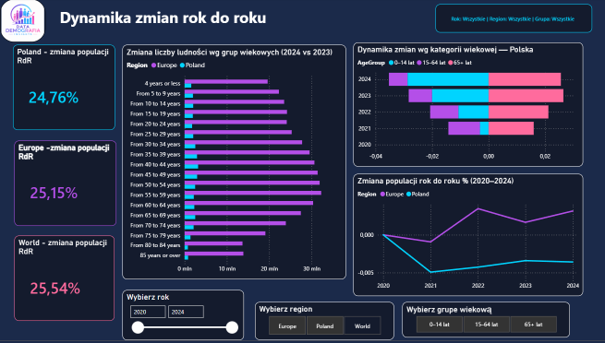

The dashboard page shown, as its layout file describes it:
{"tool":"powerbi","page":{"name":"Dynamika zmian rok do roku","canvas":[1280,720],"ordinal":2},"visuals":[{"type":"lineChart","title":"Zmiana populacji rok do roku % (2020–2024)","fields":{"Category":["Kalendarz.Rok"],"Y":["_Miary.YoY Change %"],"Series":["All_Regions.Region"]},"box":[744,369.1,484.3,258.5],"z":0},{"type":"clusteredBarChart","title":"Zmiana liczby ludności wg grup wiekowych (2024 vs 2023)","fields":{"Category":["All_Regions.Age"],"Y":["_Miary.YoY Change"],"Series":["All_Regions.Region"]},"box":[257.8,96.2,471.2,495.4],"z":1000},{"type":"barChart","title":"Dynamika zmian wg kategorii wiekowej — Polska","fields":{"Category":["Kalendarz.Rok"],"Y":["_Miary.YoY Change %"],"Series":["All_Regions.AgeGroup"]},"box":[744,91.6,484.3,262.4],"z":2000},{"type":"cardVisual","title":"Poland - zmiana populacji RdR","fields":{"Data":["_Miary.YoY Change %"]},"box":[27.5,96.2,215.3,180],"z":3000},{"type":"cardVisual","title":"Europe -zmiana populacji RdR","fields":{"Data":["_Miary.YoY Change %"]},"box":[30.1,298.4,215.3,180],"z":4000},{"type":"cardVisual","title":"World - zmiana populacji RdR","fields":{"Data":["_Miary.YoY Change %"]},"box":[30.1,498.7,210.7,180],"z":5000},{"type":"textbox","box":[120.6,10.7,454.2,73.9],"z":6000},{"type":"slicer","title":"Wybierz rok","fields":{"Values":["Kalendarz.Rok"]},"box":[257.8,613.8,255.9,106],"z":7000},{"type":"slicer","title":"Wybierz region","fields":{"Values":["All_Regions.Region"]},"box":[537.3,639.3,293.2,80.5],"z":8000},{"type":"slicer","title":"Wybierz grupe wiekową","fields":{"Values":["All_Regions.AgeGroup"]},"box":[847.4,639.3,352.7,75.3],"z":9000},{"type":"cardVisual","fields":{"Data":["Miary.Opis filtrów_2"]},"box":[916.8,10.5,329.8,59.6],"z":10000},{"type":"image","box":[0,0,96.3,91.4],"z":11000}]}

Visuals, with their boxes in screenshot pixels (x1, y1, x2, y2), scaled from the page's 1280x720 canvas onto the 605x343 screenshot:
"Zmiana populacji rok do roku % (2020–2024)" lineChart: region(352, 176, 581, 299)
"Zmiana liczby ludności wg grup wiekowych (2024 vs 2023)" clusteredBarChart: region(122, 46, 345, 282)
"Dynamika zmian wg kategorii wiekowej — Polska" barChart: region(352, 44, 581, 169)
"Poland - zmiana populacji RdR" cardVisual: region(13, 46, 115, 132)
"Europe -zmiana populacji RdR" cardVisual: region(14, 142, 116, 228)
"World - zmiana populacji RdR" cardVisual: region(14, 238, 114, 323)
textbox: region(57, 5, 272, 40)
"Wybierz rok" slicer: region(122, 292, 243, 342)
"Wybierz region" slicer: region(254, 305, 393, 342)
"Wybierz grupe wiekową" slicer: region(401, 305, 567, 340)
cardVisual - Miary.Opis filtrów_2: region(433, 5, 589, 33)
image: region(0, 0, 46, 44)
